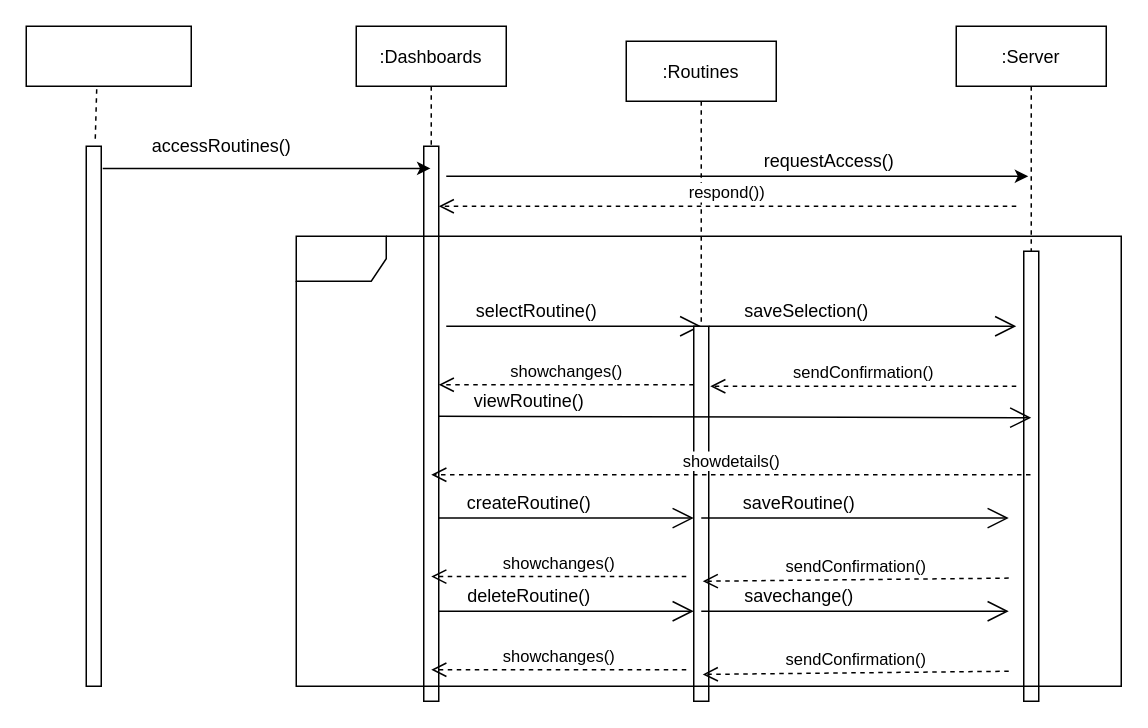
Some shapes in this 1148 by 728 pixel diagram are drawn without their labels. The shapes that lost their labels are listed below. From the top down, each one's box as (x1, y1, x2, y2) in pixels, then its label:
(25, 25, 191, 86): :Customer Page
(295, 235, 1121, 686): alt
